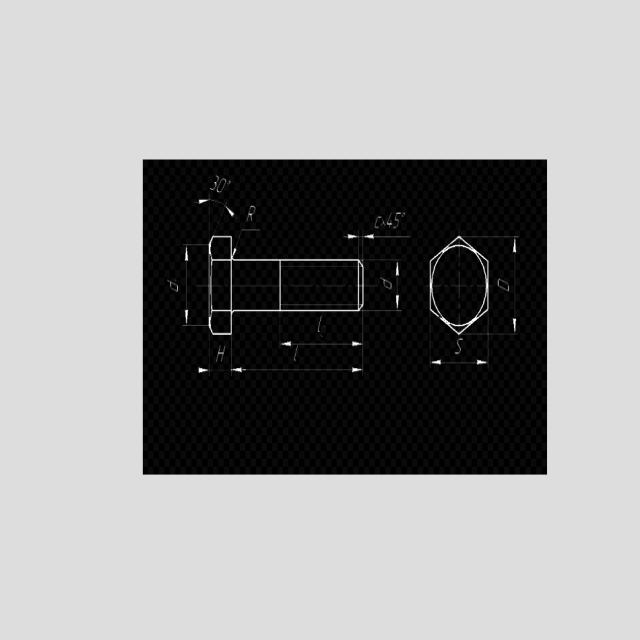marking_line: (230, 365, 364, 376), (192, 194, 240, 221), (344, 231, 415, 242), (183, 247, 192, 327), (511, 240, 518, 335), (282, 339, 363, 347), (432, 359, 488, 368), (175, 367, 211, 380), (393, 262, 400, 309)
numeric: (372, 209, 405, 231)
special_symbol: (234, 228, 266, 260)
